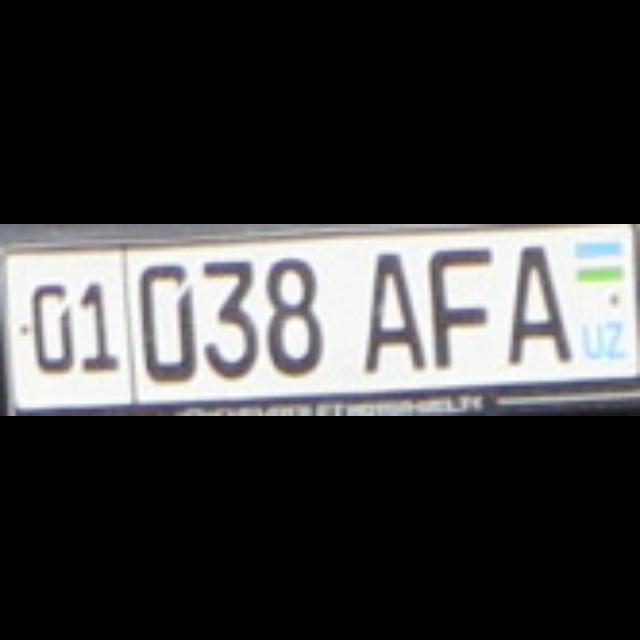0: (131, 258, 193, 378), (23, 278, 65, 367)
1: (73, 278, 115, 367)
3: (197, 255, 255, 375)
8: (262, 255, 316, 371)
A: (501, 239, 567, 359), (358, 244, 420, 366)
F: (424, 243, 486, 363)
